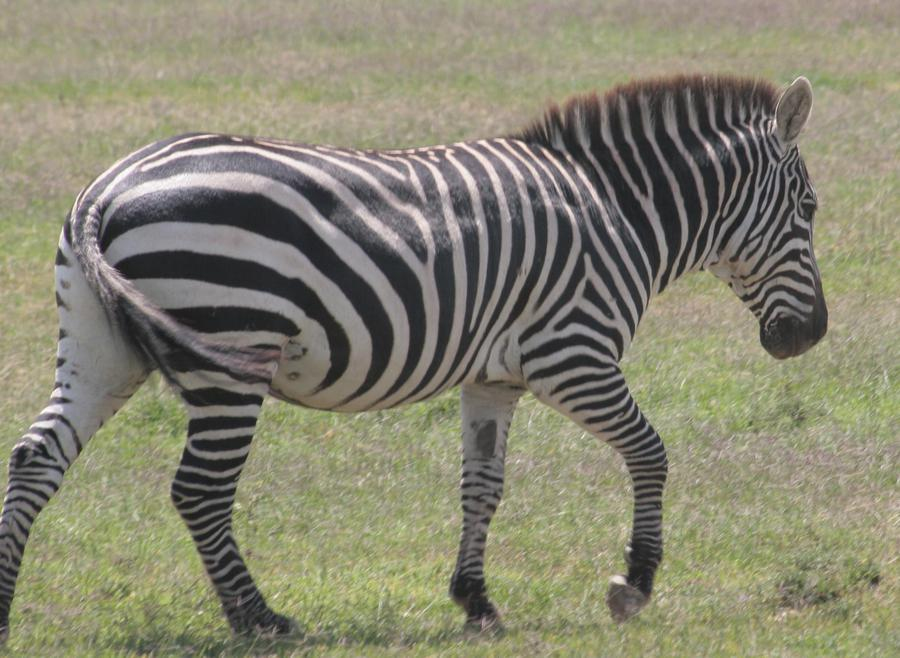zebra_plains: (140, 121, 629, 415)
